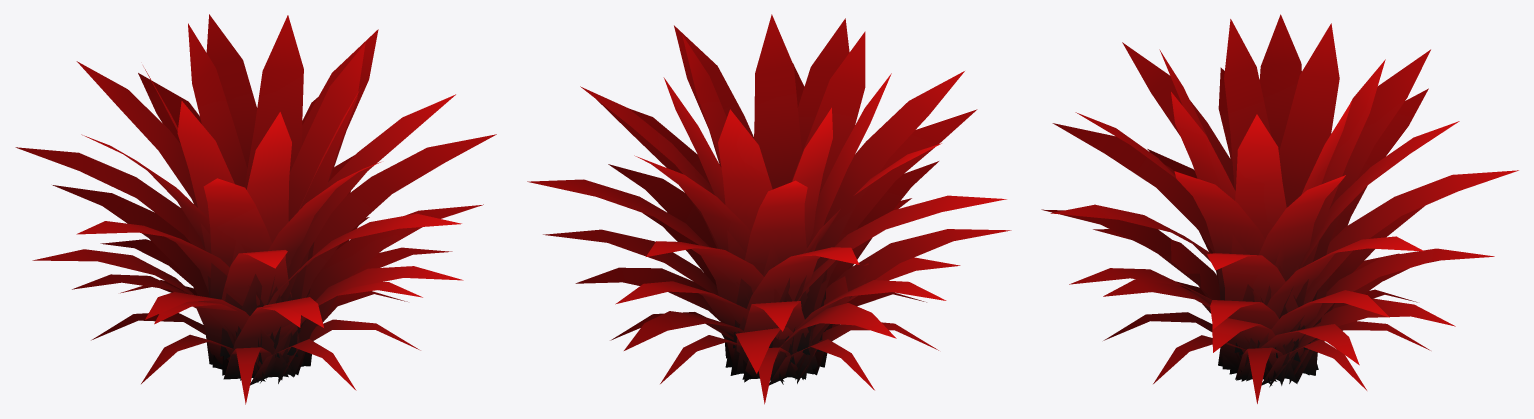
Rendered from SM_Tussock.fbx.
3 views of the same model, side by side, from view 1: azimuth 30°, elevation 25°; view 2: azimuth 150°, elevation 25°; view 3: azimuth 270°, elevation 25° (orthographic).
Parts seen in each view (by area): view 1: SM_Tussock1; view 2: SM_Tussock1; view 3: SM_Tussock1.
Part boxes in pixels (x1,y1,x2,y2): SM_Tussock1: (15,14,496,404); SM_Tussock1: (527,14,1011,404); SM_Tussock1: (1041,14,1518,403).
Bounding box in the file's own units: 36.58 × 25.68 × 36.4.
